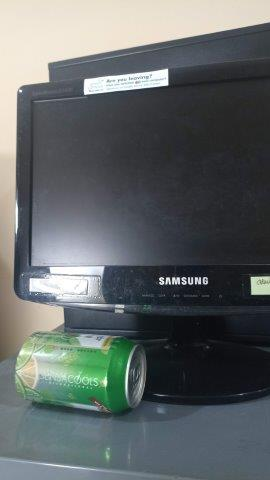kaleng: (11, 330, 150, 417)
